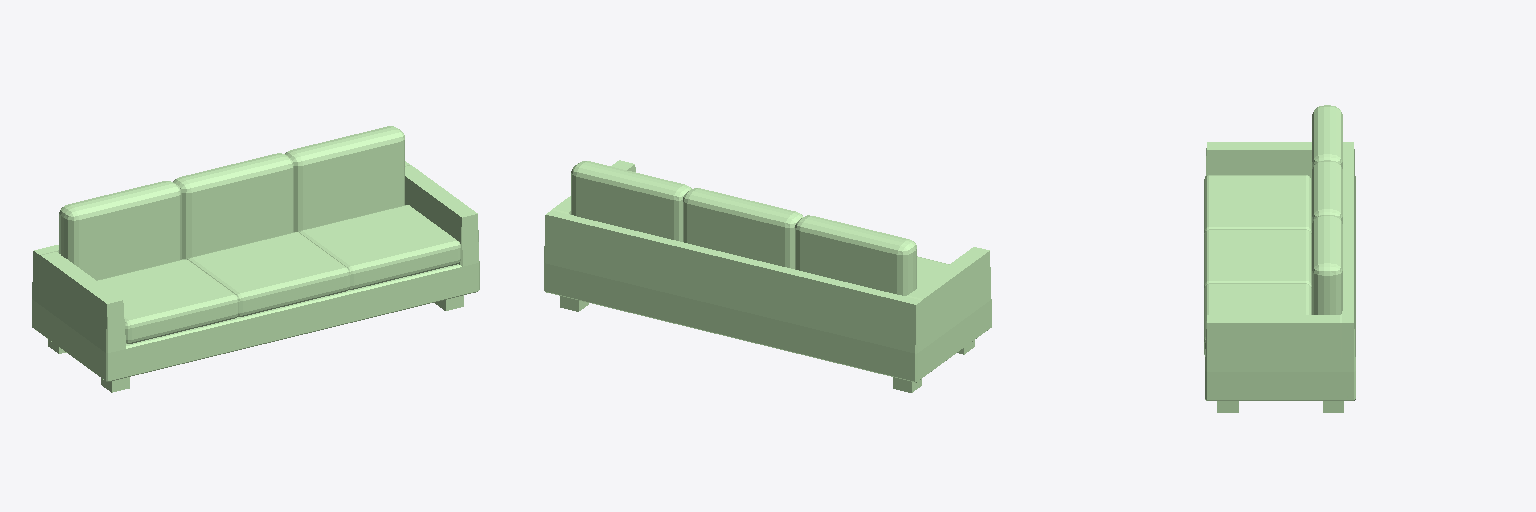
3 renders of one model, left to right at view 1: azimuth 30°, elevation 25°; view 2: azimuth 150°, elevation 25°; view 3: azimuth 270°, elevation 25°, orthographic.
Visible parts, largest first — view 1: pCube6, pasted__pasted__pasted__pCube6 pasted__pasted__group2 pasted__gr, pasted__pasted__pasted__pasted__pasted__pCube6 pasted__pasted__p, pasted__pasted__pasted__pasted__pCube6 pasted__pasted__pasted__g, pasted__pCube6 group2, pasted__pasted__pCube6 pasted__group2 group3; view 2: pCube6, pasted__pasted__pasted__pCube6 pasted__pasted__group2 pasted__gr, pasted__pasted__pasted__pasted__pasted__pCube6 pasted__pasted__p, pasted__pasted__pasted__pasted__pCube6 pasted__pasted__pasted__g; view 3: pCube6, pasted__pasted__pasted__pCube6 pasted__pasted__group2 pasted__gr, pasted__pasted__pCube6 pasted__group2 group3, pasted__pCube6 group2, pasted__pasted__pasted__pasted__pCube6 pasted__pasted__pasted__g, pasted__pasted__pasted__pasted__pasted__pCube6 pasted__pasted__p.
Part boxes in pixels (x1,y1,x2,y2): pCube6: (32, 161, 479, 381); pasted__pasted__pasted__pCube6 pasted__pasted__group2 pasted__gr: (59, 181, 349, 316); pasted__pasted__pasted__pasted__pasted__pCube6 pasted__pasted__p: (173, 153, 293, 258); pasted__pasted__pasted__pasted__pCube6 pasted__pasted__pasted__g: (285, 126, 404, 231); pasted__pCube6 group2: (299, 205, 460, 289); pasted__pasted__pCube6 pasted__group2 group3: (96, 259, 238, 343); pCube6: (544, 160, 991, 382); pasted__pasted__pasted__pCube6 pasted__pasted__group2 pasted__gr: (795, 215, 916, 295); pasted__pasted__pasted__pasted__pasted__pCube6 pasted__pasted__p: (683, 188, 802, 268); pasted__pasted__pasted__pasted__pCube6 pasted__pasted__pasted__g: (571, 161, 691, 241); pCube6: (1205, 142, 1355, 400); pasted__pasted__pasted__pCube6 pasted__pasted__group2 pasted__gr: (1204, 105, 1342, 287); pasted__pasted__pCube6 pasted__group2 group3: (1204, 175, 1311, 233); pasted__pCube6 group2: (1204, 283, 1311, 354); pasted__pasted__pasted__pasted__pCube6 pasted__pasted__pasted__g: (1312, 215, 1342, 314); pasted__pasted__pasted__pasted__pasted__pCube6 pasted__pasted__p: (1312, 160, 1342, 223).
Bounding box in the file's own units: 10 × 3.63 × 3.52.
11 materials, 1 textured.